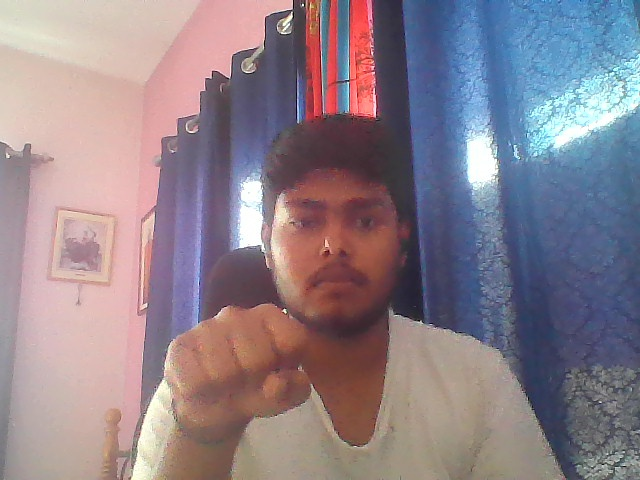Yes: (143, 300, 333, 438)
